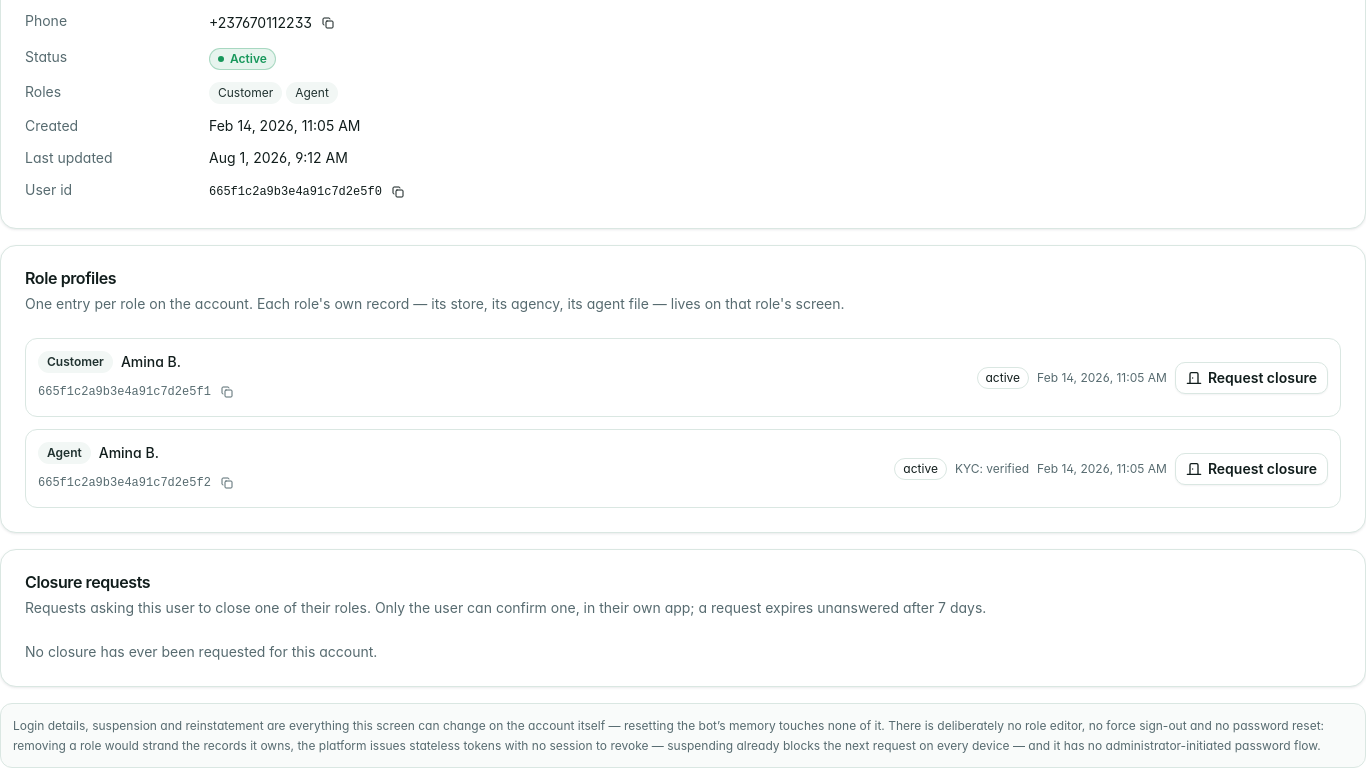
Test: refusals, by details.platformCode › lists ROLE_CLOSURE_BLOCKED blockers as a checklist, unknown codes raw
The image size is (1366, 768).
(page scrolled)
Click the button "Request closure" in the row of "verified" at x=1251, y=468, box [1175,452,1328,484]
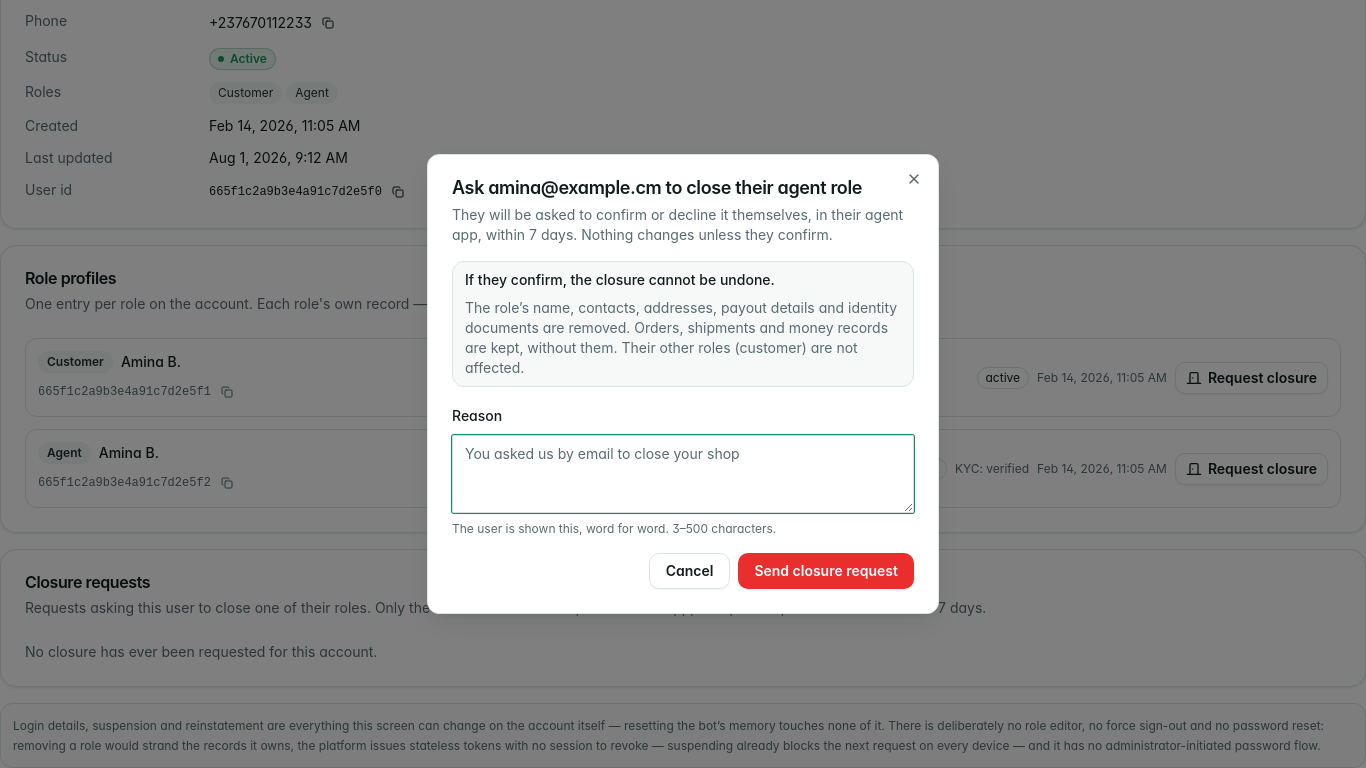
Type "Owner asked us to" into the text box labelled "Reason" at x=683, y=474, box [452,435,914,513]
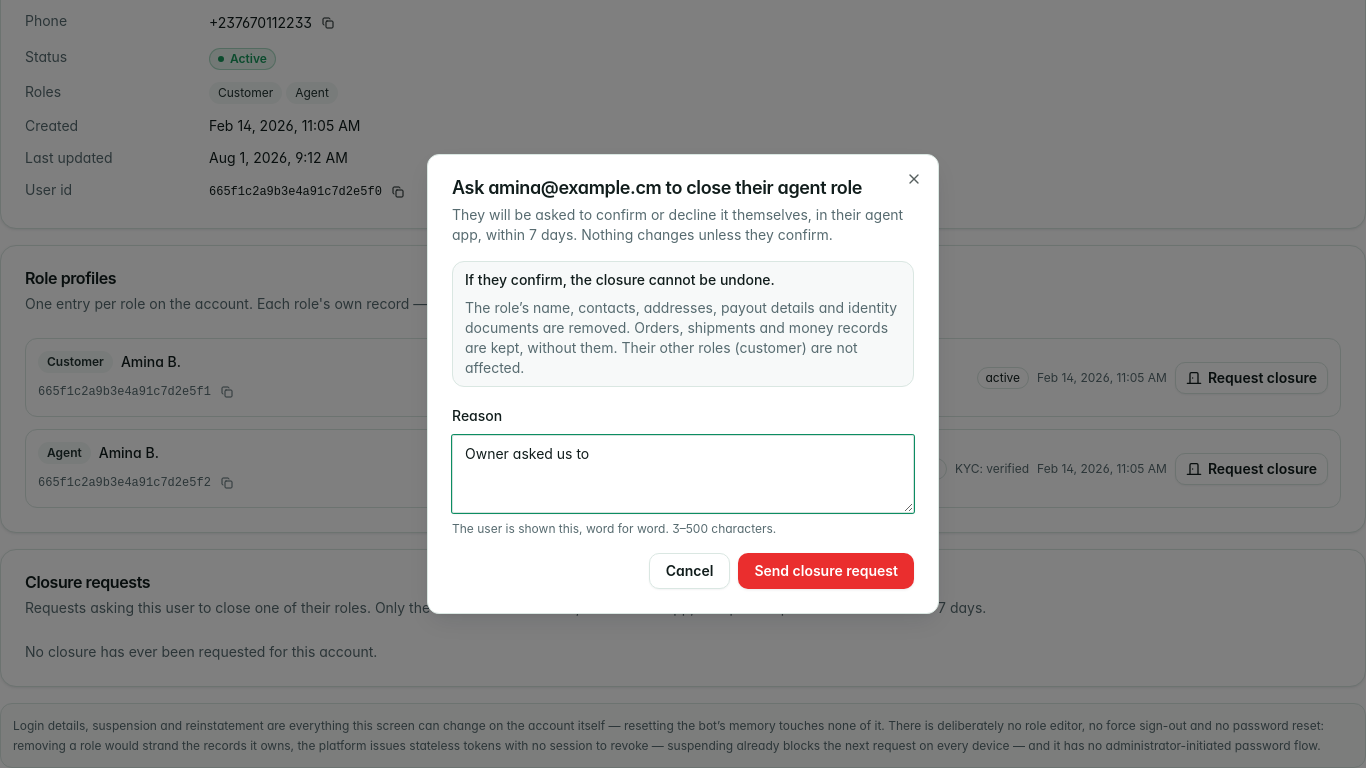
Click the button "Send closure request" at x=826, y=571, box [738,553,914,589]
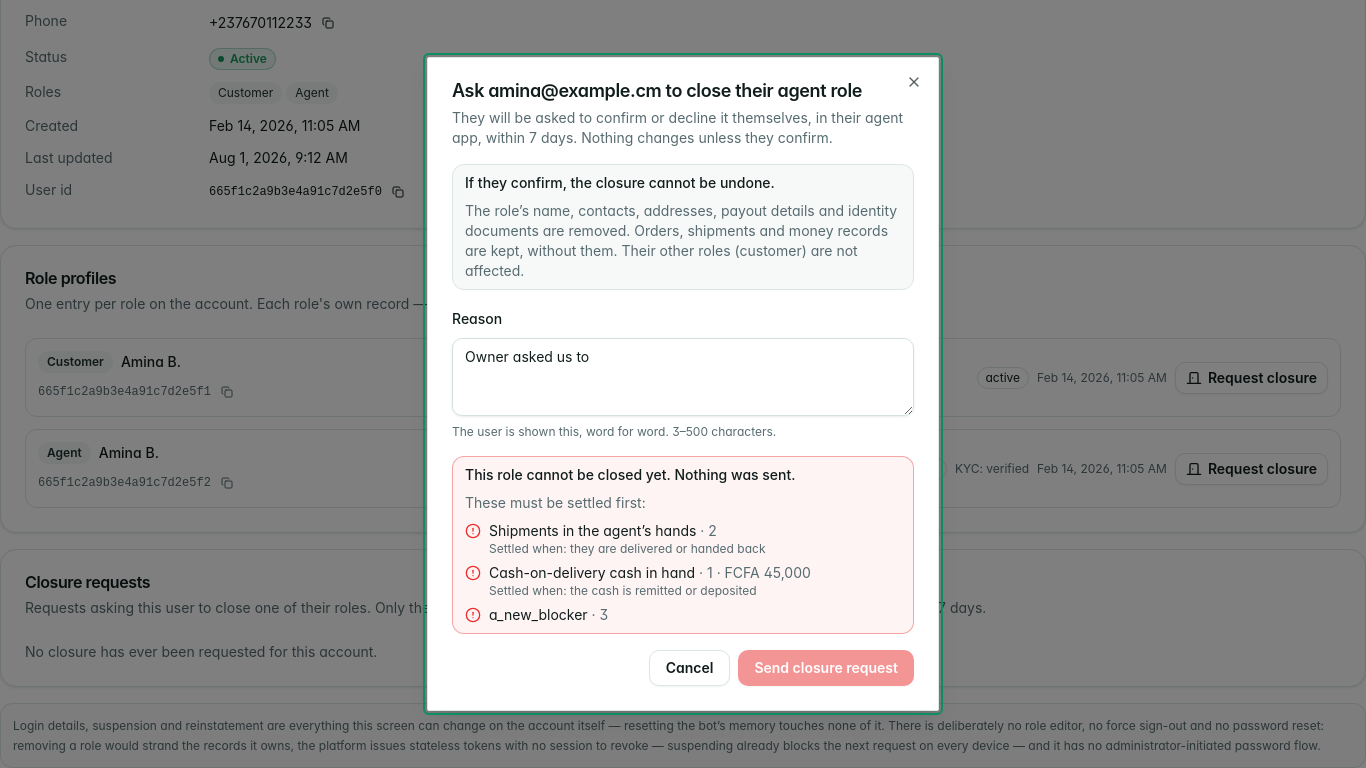
Result: the text "This role cannot be closed yet. Nothing was sent." is shown at [465,466,796,483]
Result: the text "Shipments in the agent’s hands · 2" is shown at [489,522,717,539]
Result: the text "Settled when: they are delivered or handed back" is shown at [489,541,766,557]
